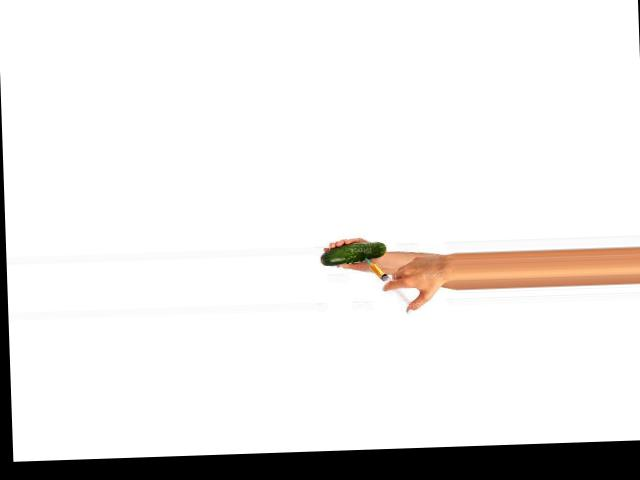cucumber: (318, 242, 386, 265)
